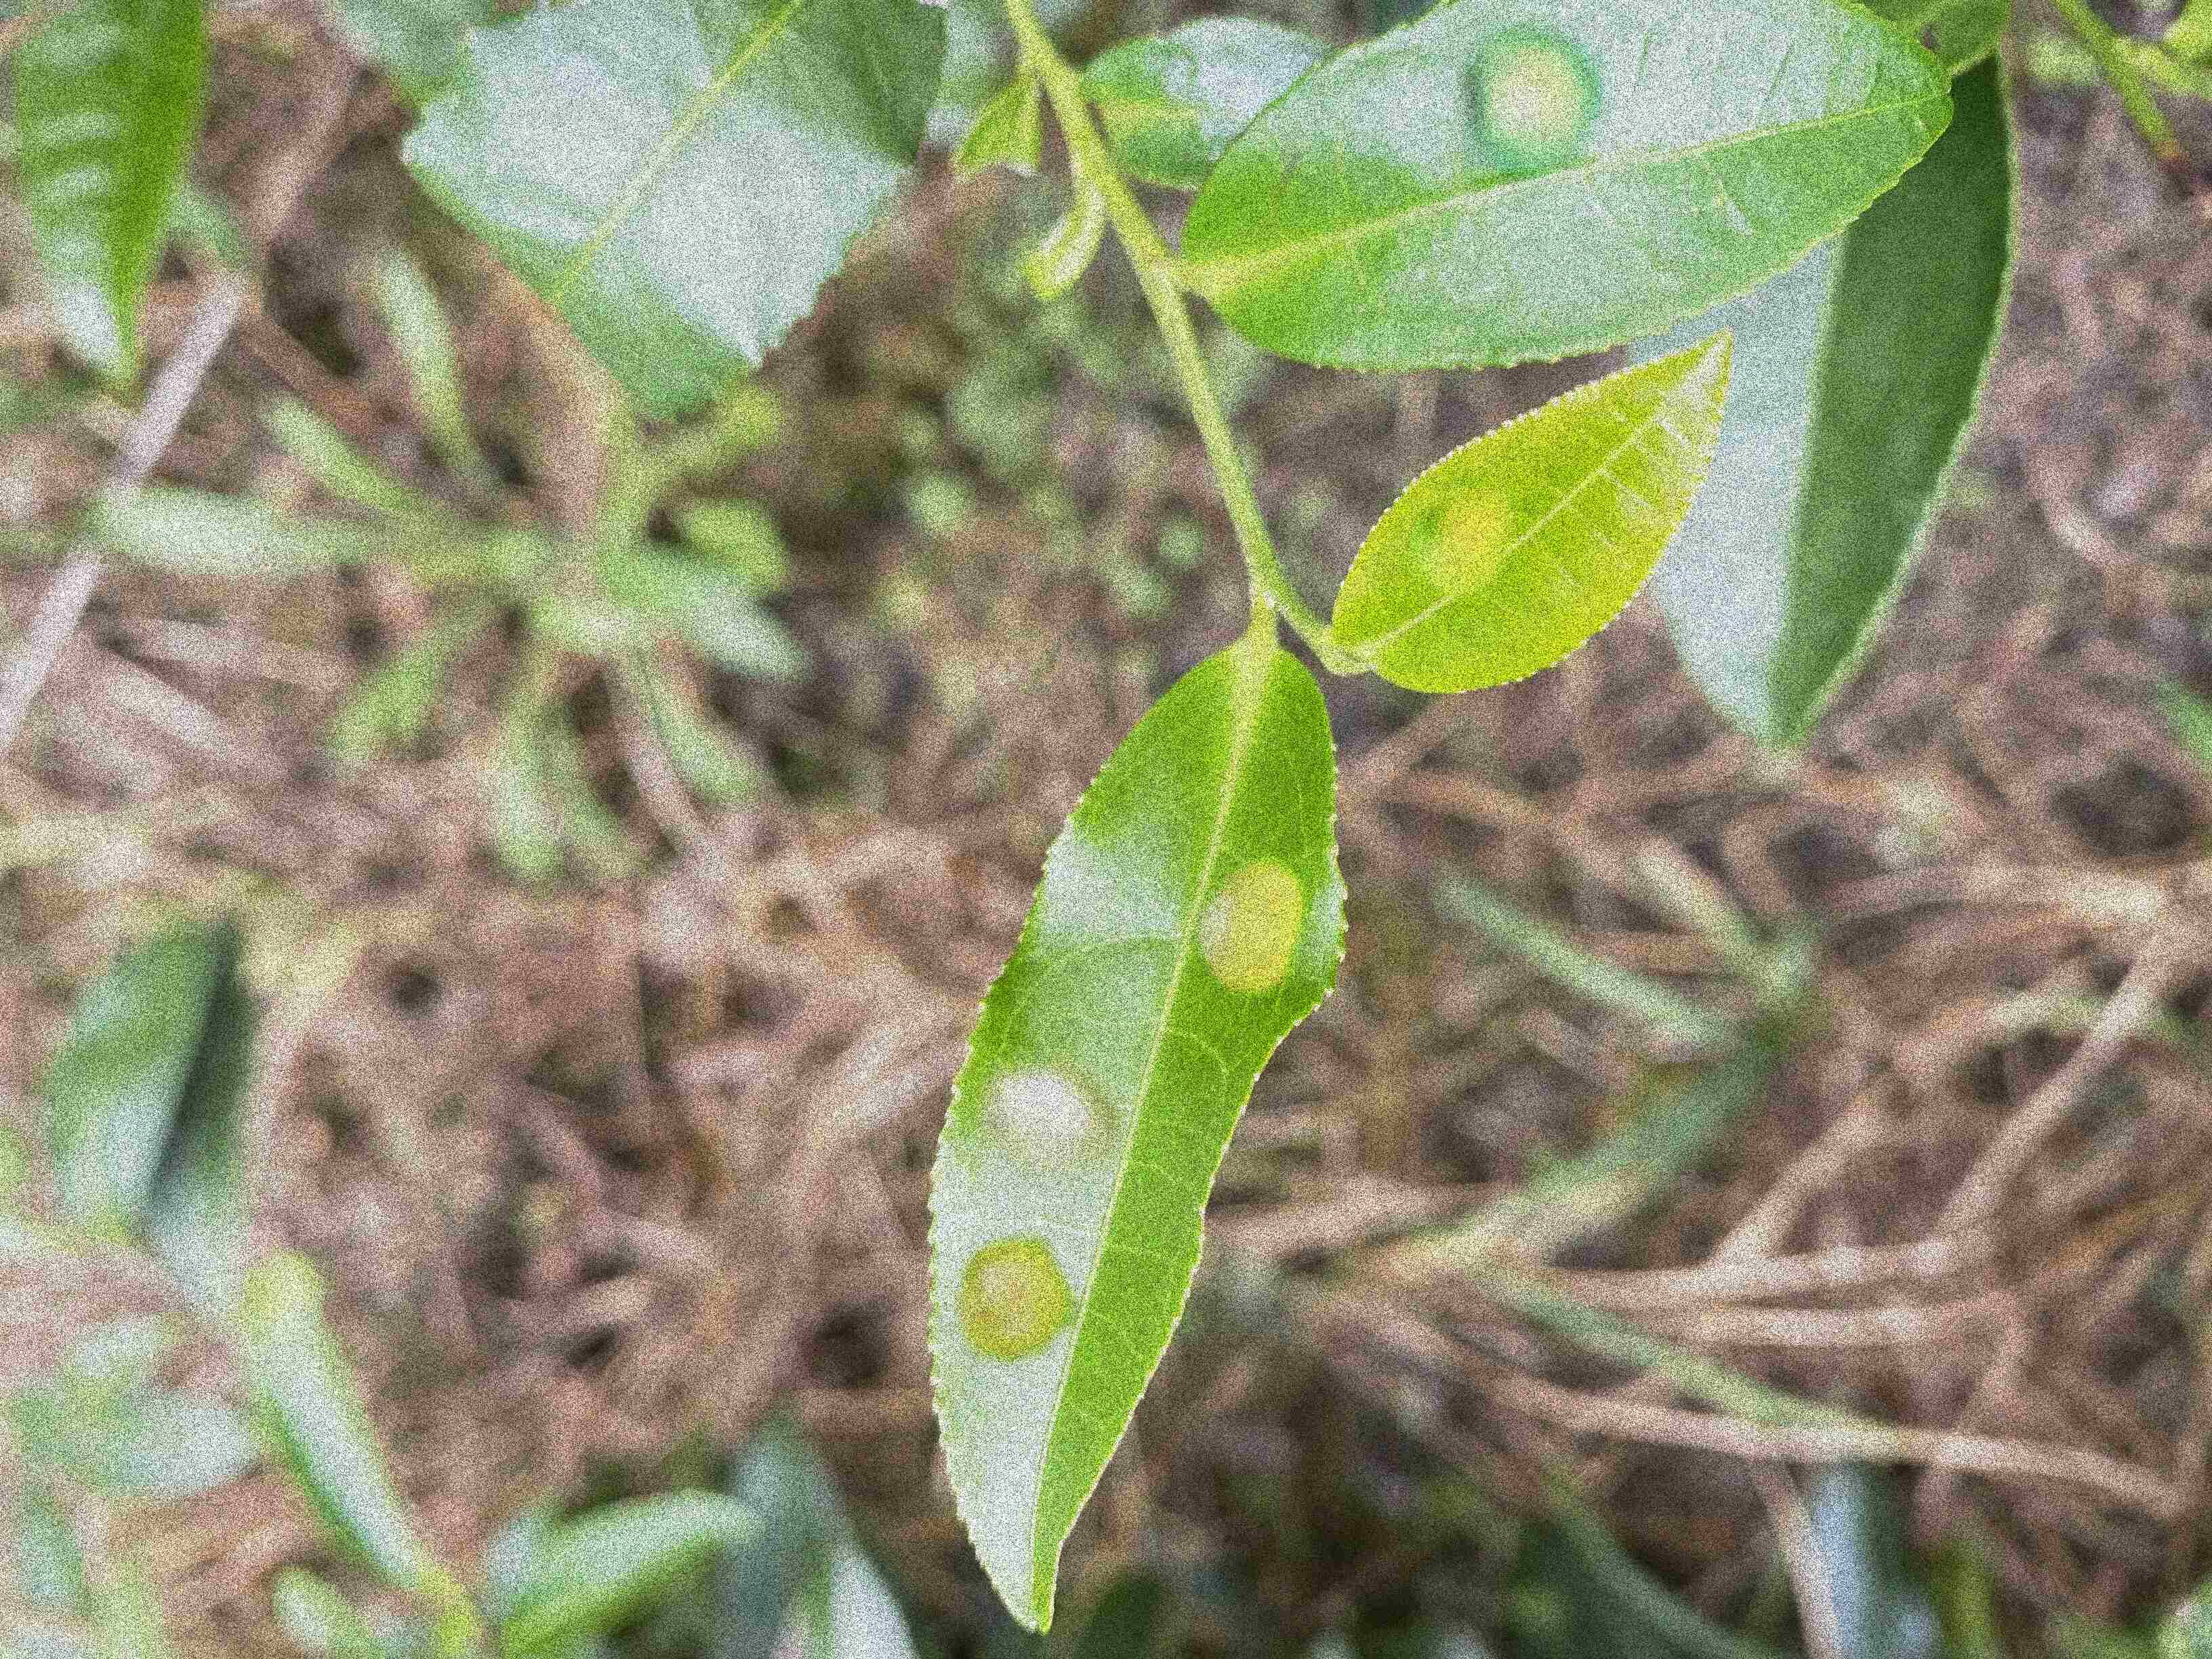chabing_high: (923, 638, 1348, 1631)
chabing_low: (1184, 0, 1954, 376), (1332, 326, 1737, 695)
